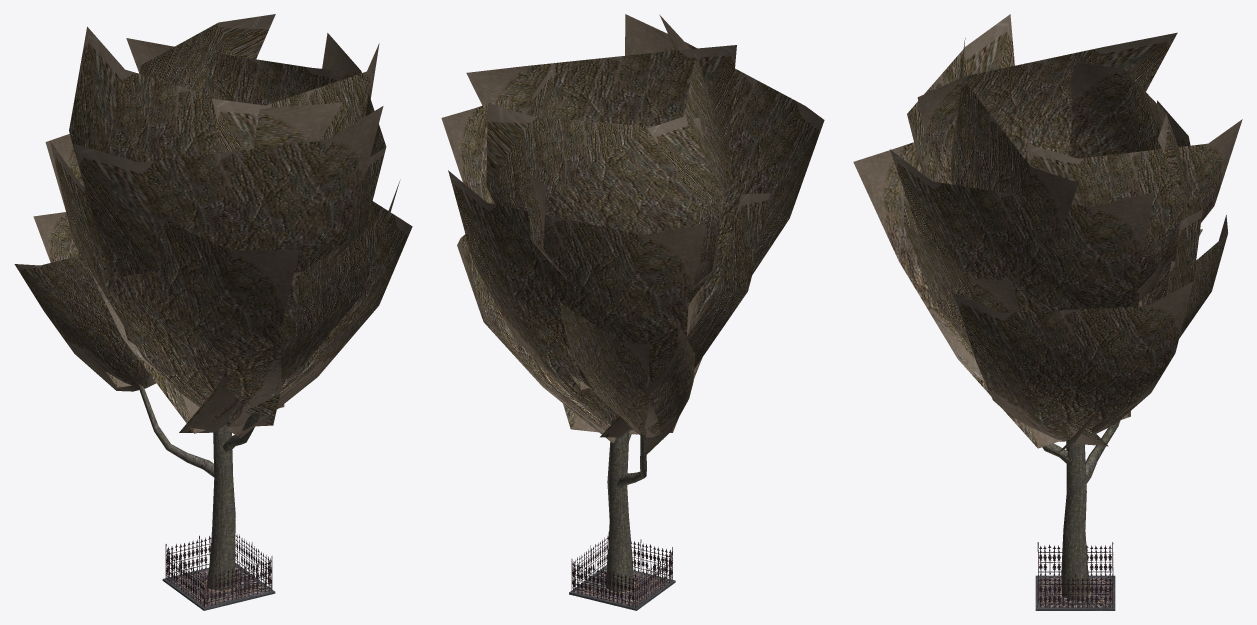
File: tree_deciduous_large2.fbx
3 views of the same model, side by side, from view 1: azimuth 30°, elevation 25°; view 2: azimuth 150°, elevation 25°; view 3: azimuth 270°, elevation 25° (orthographic). The views are drawn at different scales.
Parts seen in each view (by area): view 1: mesh_0, mesh_1, mesh_2, mesh_3; view 2: mesh_0, mesh_1, mesh_2, mesh_3; view 3: mesh_0, mesh_1, mesh_2, mesh_3.
Part boxes in pixels (left/top/right/bottom): mesh_0: left=14, top=14, right=412, bottom=438; mesh_1: left=138, top=384, right=260, bottom=590; mesh_2: left=165, top=534, right=272, bottom=607; mesh_3: left=162, top=563, right=275, bottom=610; mesh_0: left=441, top=14, right=824, bottom=456; mesh_1: left=606, top=419, right=646, bottom=592; mesh_2: left=571, top=532, right=672, bottom=607; mesh_3: left=569, top=565, right=675, bottom=610; mesh_0: left=853, top=14, right=1242, bottom=452; mesh_1: left=1042, top=420, right=1120, bottom=599; mesh_2: left=1037, top=542, right=1113, bottom=608; mesh_3: left=1035, top=575, right=1115, bottom=610.
Bounding box in the file's own units: 958 × 1463 × 977.
Materials: 4 (4 with a texture image).
